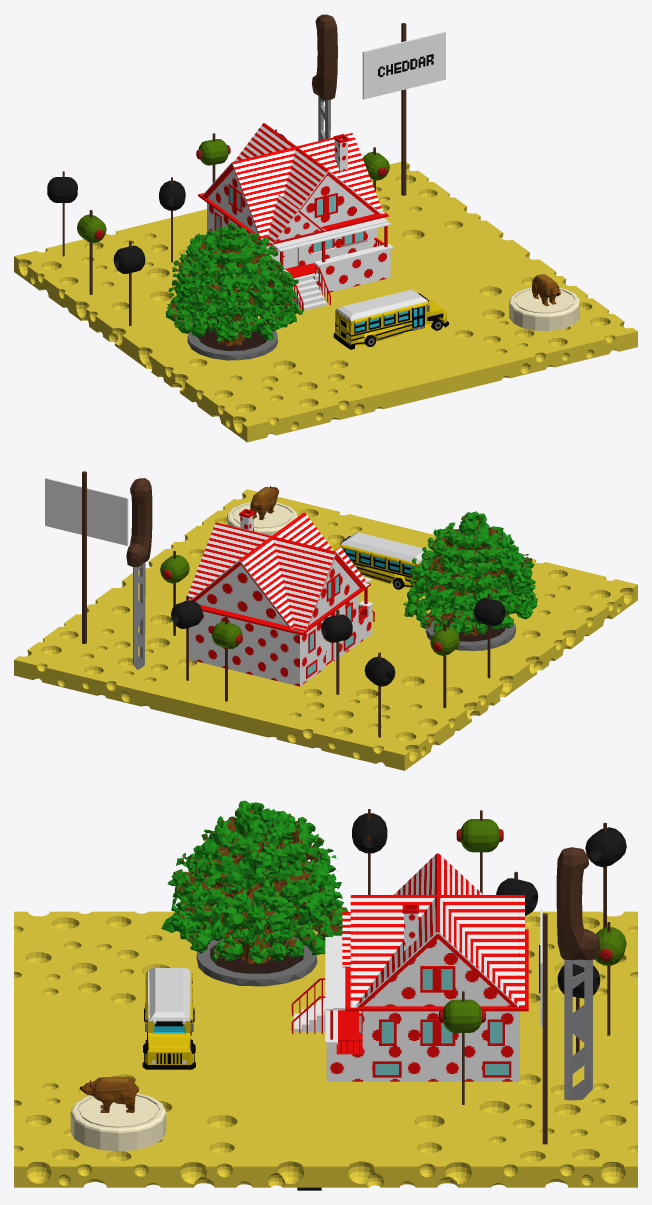
3 renders of one model, top to bottom at view 1: azimuth 30°, elevation 25°; view 2: azimuth 150°, elevation 25°; view 3: azimuth 270°, elevation 25°, orthographic. The views are drawn at different scales.
Visible parts, largest first — view 1: Cube.022, Cube.196, OBJRANDOM_CEIBA, Cube.023, VEHICLES_SCHOOL_BUS, Cylinder.016, Cube.024, Sphere.017, Sphere.016, Sphere.018, Sphere.022, Sphere.020 (+2 smaller); view 2: Cube.022, Cube.196, OBJRANDOM_CEIBA, Cube.023, Cube.024, VEHICLES_SCHOOL_BUS, Cylinder.016, Sphere.020, Sphere.017, Sphere.021, Sphere.018, Sphere.016 (+3 smaller); view 3: Cube.022, Cube.196, OBJRANDOM_CEIBA, Cube.024, VEHICLES_SCHOOL_BUS, Cylinder.016, Cube.023, Sphere.016, Sphere.019, Sphere.018, ANIMAL_OSO, Sphere.017 (+3 smaller).
Part boxes in pixels (bbox=[...]): Cube.022: bbox=[14, 162, 637, 442]; Cube.196: bbox=[198, 123, 393, 311]; OBJRANDOM_CEIBA: bbox=[165, 222, 302, 360]; Cube.023: bbox=[362, 22, 445, 195]; VEHICLES_SCHOOL_BUS: bbox=[333, 289, 448, 349]; Cylinder.016: bbox=[509, 287, 579, 330]; Cube.024: bbox=[311, 14, 337, 140]; Sphere.017: bbox=[113, 241, 145, 325]; Sphere.016: bbox=[47, 171, 77, 256]; Sphere.018: bbox=[77, 210, 106, 294]; Sphere.022: bbox=[196, 133, 230, 183]; Sphere.020: bbox=[159, 177, 185, 262]; Cube.022: bbox=[14, 489, 637, 770]; Cube.196: bbox=[184, 509, 374, 686]; OBJRANDOM_CEIBA: bbox=[403, 511, 537, 650]; Cube.023: bbox=[45, 471, 128, 643]; Cube.024: bbox=[126, 478, 152, 669]; VEHICLES_SCHOOL_BUS: bbox=[332, 532, 427, 589]; Cylinder.016: bbox=[227, 502, 297, 535]; Sphere.020: bbox=[321, 610, 352, 694]; Sphere.017: bbox=[474, 593, 505, 678]; Sphere.021: bbox=[171, 595, 202, 680]; Sphere.018: bbox=[430, 623, 459, 708]; Sphere.016: bbox=[364, 652, 395, 737]; Cube.022: bbox=[14, 911, 637, 1187]; Cube.196: bbox=[291, 853, 528, 1081]; OBJRANDOM_CEIBA: bbox=[161, 800, 348, 986]; Cube.024: bbox=[556, 847, 600, 1100]; VEHICLES_SCHOOL_BUS: bbox=[142, 968, 195, 1069]; Cylinder.016: bbox=[70, 1093, 166, 1151]; Cube.023: bbox=[539, 909, 547, 1144]; Sphere.016: bbox=[585, 822, 626, 928]; Sphere.019: bbox=[439, 991, 485, 1104]; Sphere.018: bbox=[456, 810, 503, 893]; ANIMAL_OSO: bbox=[80, 1076, 138, 1112]; Sphere.017: bbox=[352, 809, 387, 894].
Size of the model in its own units: 3917 by 2015 by 4000.
Materials: 35 (4 with a texture image).
